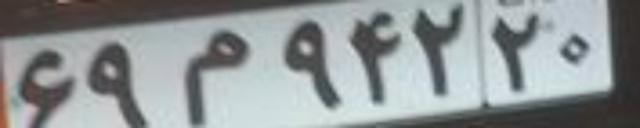0: (552, 30, 597, 67)
2: (411, 3, 466, 96), (486, 13, 545, 91)
4: (347, 11, 405, 104)
6: (17, 49, 75, 127)
9: (281, 18, 341, 108), (87, 42, 151, 126)
mim: (178, 27, 250, 127)
